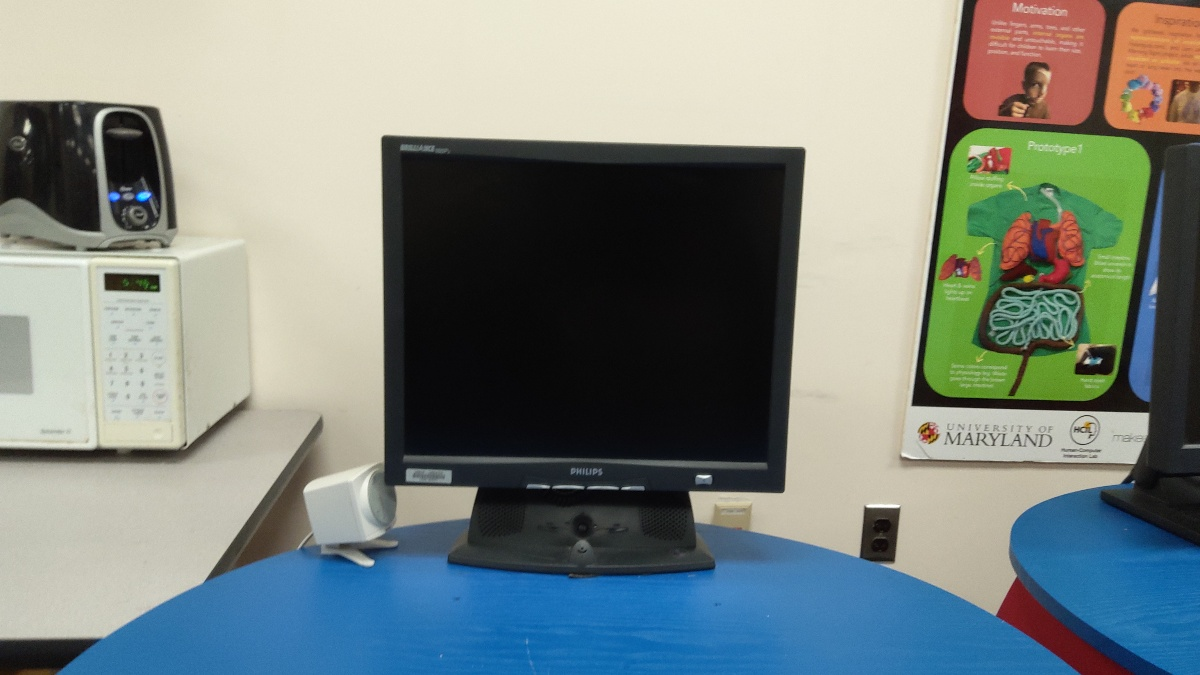monitor: (374, 129, 812, 500)
